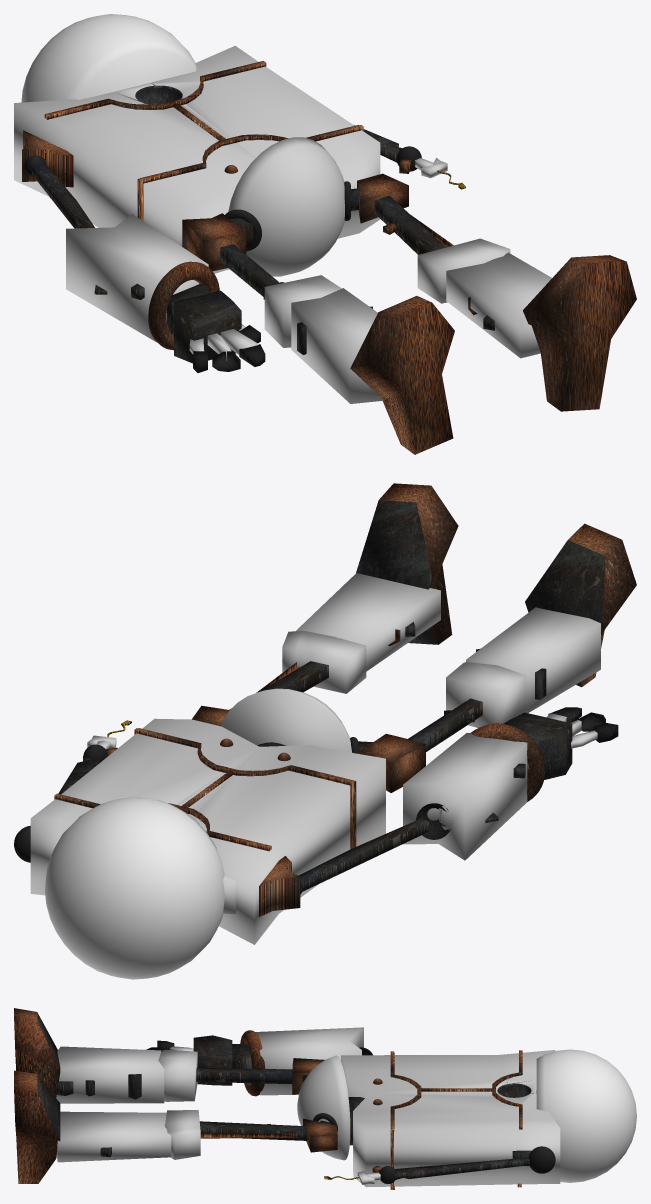
Rendered from robotespatllat.fbx.
3 renders of one model, top to bottom at view 1: azimuth 30°, elevation 25°; view 2: azimuth 150°, elevation 25°; view 3: azimuth 270°, elevation 25°, orthographic. The views are drawn at different scales.
Parts seen in each view (by area): view 1: Cube, Cube_031, Sphere, Cube_030, Sphere_004, Cube_023, Cube_007, Cube_004, Cube_044, Cube_025, Cube_011, Cube_024 (+7 smaller); view 2: Cube, Sphere_004, Cube_004, Cube_007, Cube_023, Cube_031, Cube_030, Sphere, Cube_044, Cube_032, Cube_025, Cube_011 (+5 smaller); view 3: Cube, Sphere_004, Cube_004, Cube_007, Cube_031, Cube_023, Sphere, Cube_030, Cube_017, Cube_044, Cube_002, Cube_025 (+7 smaller).
Boxes of the visible parts, left/top/right/bottom form: Cube: left=14, top=45, right=380, bottom=273; Cube_031: left=523, top=255, right=636, bottom=411; Sphere: left=228, top=137, right=344, bottom=276; Cube_030: left=350, top=296, right=454, bottom=454; Sphere_004: left=21, top=14, right=196, bottom=102; Cube_023: left=66, top=214, right=211, bottom=342; Cube_007: left=417, top=238, right=551, bottom=358; Cube_004: left=264, top=275, right=383, bottom=403; Cube_044: left=44, top=61, right=363, bottom=220; Cube_025: left=174, top=290, right=241, bottom=363; Cube_011: left=182, top=213, right=246, bottom=271; Cube_024: left=148, top=261, right=219, bottom=350; Cube: left=30, top=718, right=385, bottom=944; Sphere_004: left=45, top=797, right=224, bottom=979; Cube_004: left=446, top=607, right=600, bottom=727; Cube_007: left=282, top=573, right=440, bottom=693; Cube_023: left=403, top=733, right=527, bottom=860; Cube_031: left=356, top=483, right=458, bottom=644; Cube_030: left=525, top=523, right=636, bottom=687; Sphere: left=221, top=688, right=352, bottom=752; Cube_044: left=54, top=728, right=356, bottom=851; Cube_032: left=298, top=818, right=428, bottom=891; Cube_025: left=503, top=712, right=572, bottom=779; Cube_011: left=358, top=733, right=425, bottom=792; Cube: left=341, top=1050, right=560, bottom=1187; Sphere_004: left=536, top=1049, right=636, bottom=1182; Cube_004: left=56, top=1046, right=197, bottom=1103; Cube_007: left=56, top=1110, right=200, bottom=1162; Cube_031: left=14, top=1070, right=60, bottom=1183; Cube_023: left=232, top=1027, right=363, bottom=1095; Sphere: left=297, top=1055, right=350, bottom=1160; Cube_030: left=14, top=1008, right=60, bottom=1097; Cube_017: left=394, top=1150, right=531, bottom=1179; Cube_044: left=390, top=1050, right=522, bottom=1189; Cube_002: left=196, top=1067, right=292, bottom=1084; Cube_025: left=193, top=1035, right=232, bottom=1085.
Bounding box in the file's own units: 6.66 × 3.08 × 12.76.
